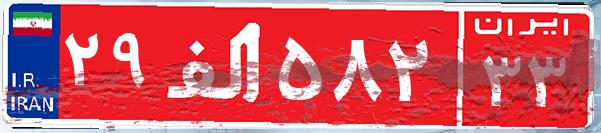2: (385, 28, 445, 110), (57, 26, 110, 107)
3: (475, 38, 525, 113), (525, 38, 570, 115)
5: (273, 28, 330, 110)
8: (330, 28, 385, 110)
9: (110, 28, 158, 105)
الف: (158, 15, 273, 115)
